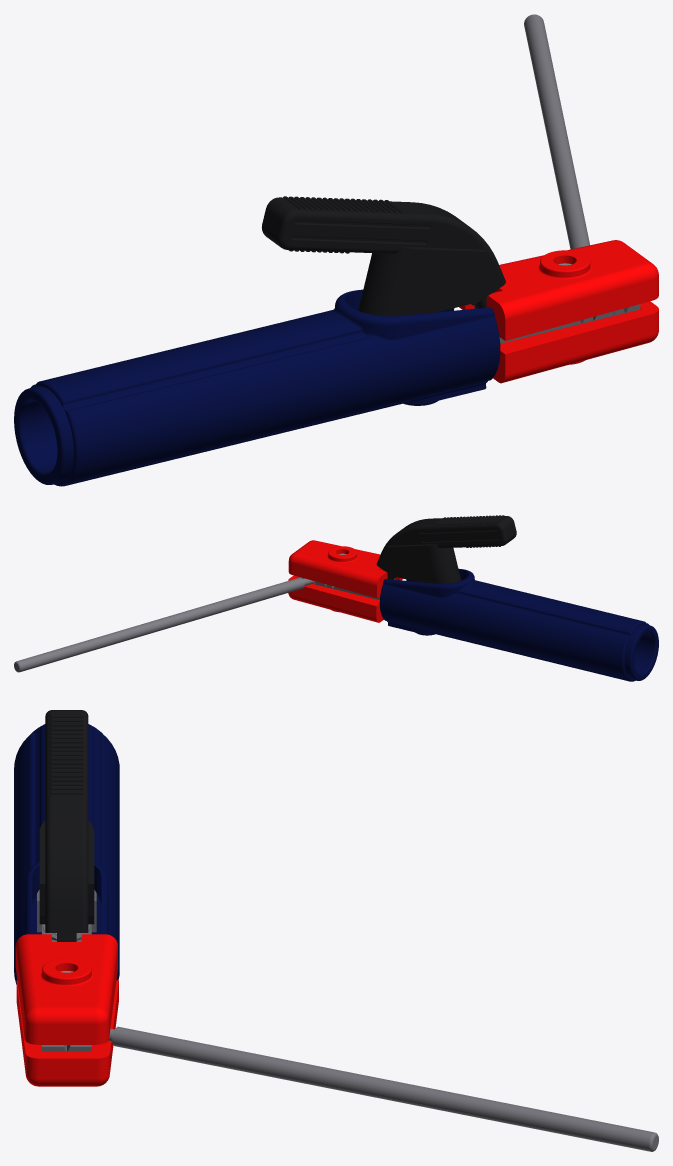
Rendered from electrodo.glb.
The picture shows the model from 3 angles, top to bottom: view 1: azimuth 30°, elevation 25°; view 2: azimuth 150°, elevation 25°; view 3: azimuth 270°, elevation 25°; orthographic projection. The views are drawn at different scales.
Parts seen in each view (by area): view 1: currentmodel.wrl.cleaner.materialmerger.gles; view 2: currentmodel.wrl.cleaner.materialmerger.gles; view 3: currentmodel.wrl.cleaner.materialmerger.gles.
Part boxes in pixels (<box>): currentmodel.wrl.cleaner.materialmerger.gles: <box>14,14,658,486</box>; currentmodel.wrl.cleaner.materialmerger.gles: <box>14,515,658,681</box>; currentmodel.wrl.cleaner.materialmerger.gles: <box>14,710,658,1151</box>.
Size of the model in its own units: 275 by 73.76 by 195.
